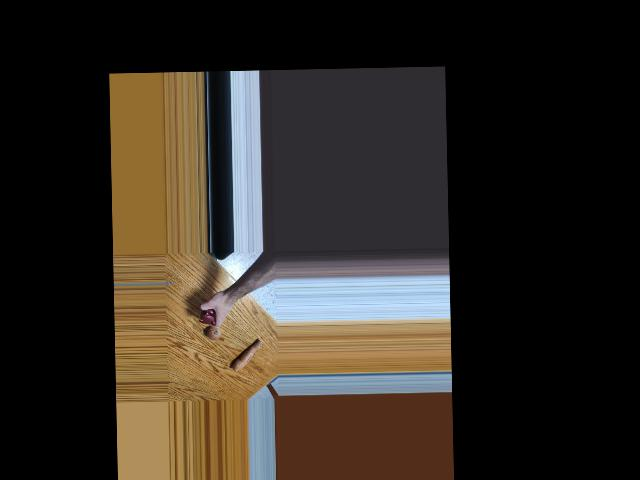onion: (205, 323, 222, 341)
